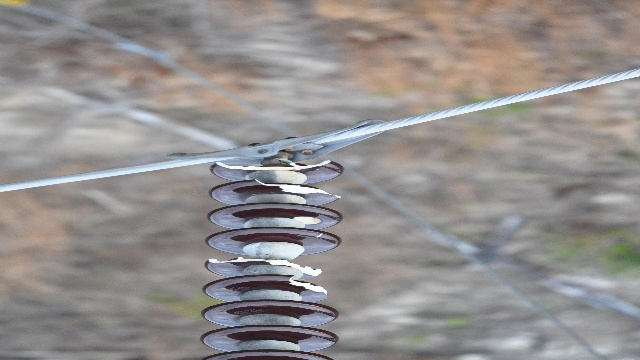broken_local: (204, 257, 324, 277), (248, 178, 343, 200), (283, 273, 333, 300), (214, 160, 336, 171)
insulator_unspecified: (197, 156, 348, 359)
